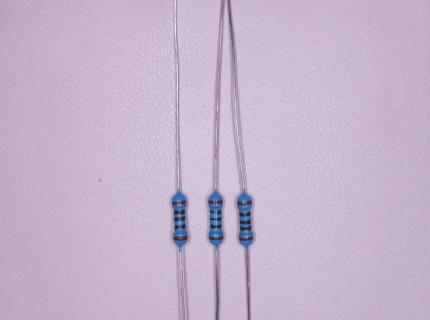Black band: (240, 226, 252, 232), (174, 216, 185, 222), (239, 219, 252, 224), (173, 209, 186, 214), (210, 224, 222, 229), (239, 211, 251, 216), (174, 224, 186, 229), (210, 210, 222, 214), (210, 217, 222, 221)
Brown band: (237, 200, 252, 206), (171, 200, 186, 206), (173, 235, 188, 240), (209, 236, 224, 240)
Red band: (239, 236, 254, 242), (208, 200, 223, 204)
